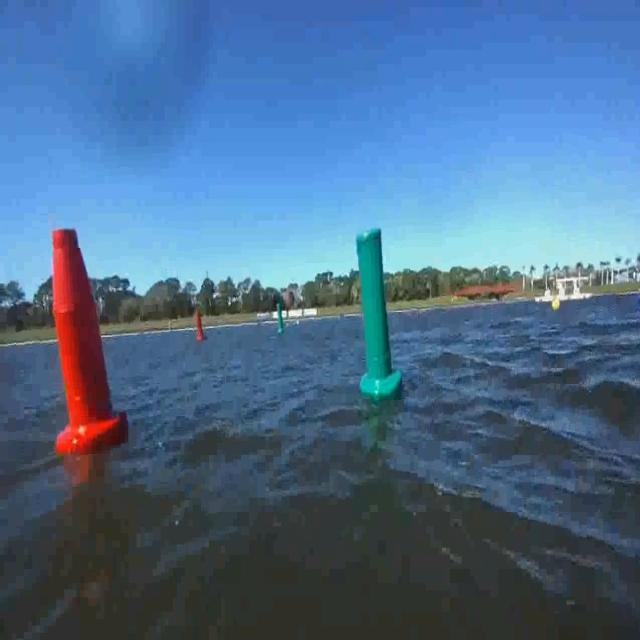green-column-buoy: (354, 229, 399, 401), (277, 304, 286, 336)
red-column-buoy: (51, 227, 130, 457), (196, 313, 207, 344)
yellow-buoy: (553, 298, 562, 314)
